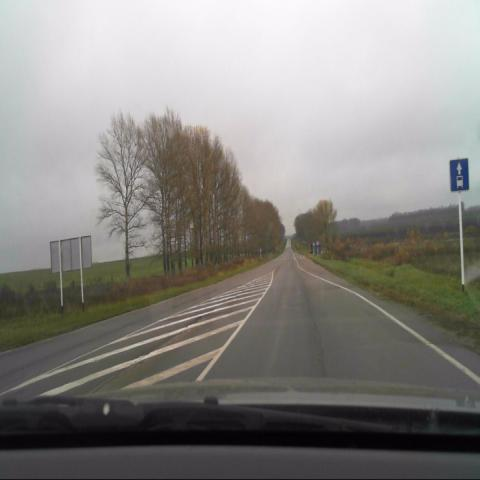5_14: (450, 160, 470, 192)
